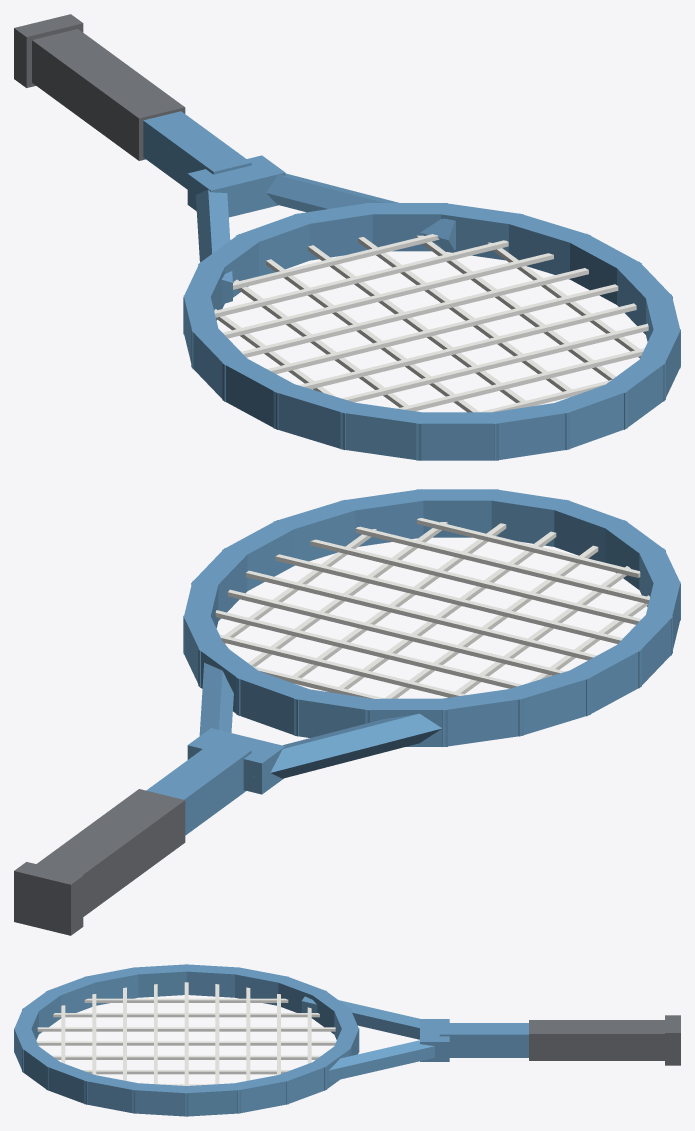
File: tennis-club-and-courts-tennis-racket-ba639ca5__33614.glb
The picture shows the model from 3 angles, top to bottom: view 1: azimuth 30°, elevation 25°; view 2: azimuth 150°, elevation 25°; view 3: azimuth 270°, elevation 25°; orthographic projection. The views are drawn at different scales.
Parts seen in each view (by area): view 1: tennis-racket; view 2: tennis-racket; view 3: tennis-racket.
Part boxes in pixels (x1,y1,x2,y2): tennis-racket: (14, 14, 680, 460); tennis-racket: (14, 489, 680, 935); tennis-racket: (14, 964, 680, 1116).
Size of the model in its own units: 0.3077 by 0.036 by 0.6719.
